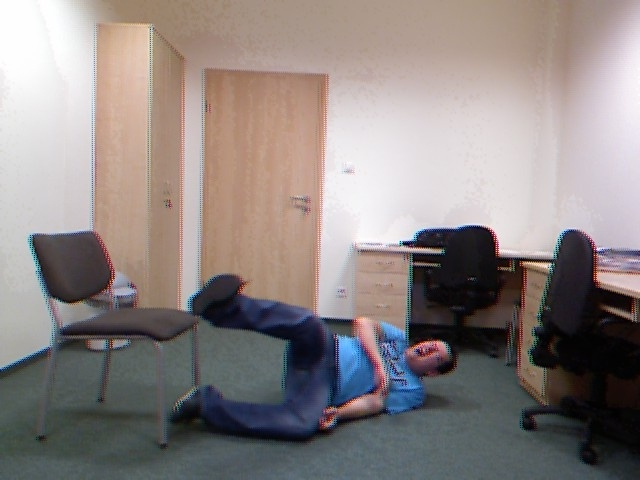fall: (163, 270, 465, 440)
